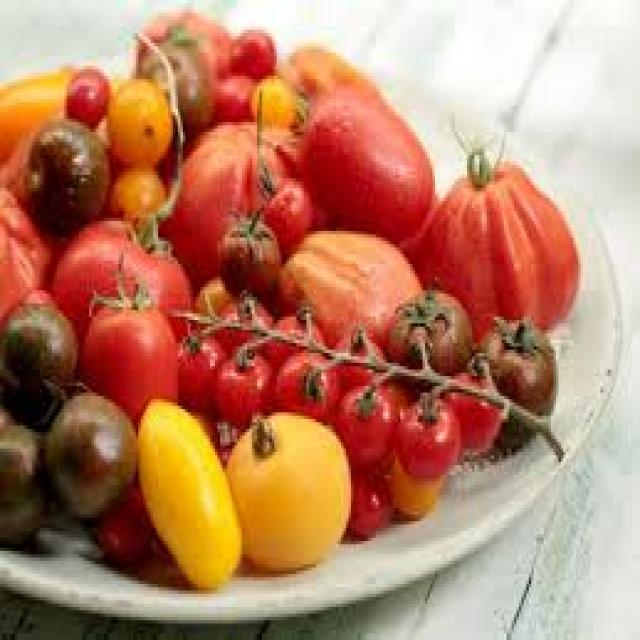organic waste: (398, 125, 578, 324), (160, 109, 302, 284), (289, 79, 430, 241), (49, 204, 188, 363), (136, 389, 240, 587), (225, 406, 348, 567), (269, 221, 420, 350), (72, 258, 180, 402), (42, 379, 136, 518), (136, 10, 235, 125), (0, 284, 79, 422), (0, 175, 54, 376), (477, 313, 553, 442), (22, 119, 106, 218), (0, 66, 86, 161), (386, 277, 470, 366), (141, 36, 217, 132), (101, 76, 173, 168), (0, 403, 47, 541), (445, 350, 499, 452), (218, 204, 280, 290), (396, 393, 458, 475), (86, 475, 146, 558), (336, 383, 395, 465), (282, 46, 373, 99), (252, 172, 314, 248), (101, 158, 168, 228), (274, 346, 338, 416), (215, 346, 272, 419), (380, 445, 438, 515), (324, 327, 388, 386), (173, 327, 222, 402), (250, 66, 299, 132), (270, 307, 326, 363), (190, 277, 235, 340), (343, 465, 388, 525), (62, 60, 109, 116), (222, 27, 274, 72), (222, 294, 267, 346)
